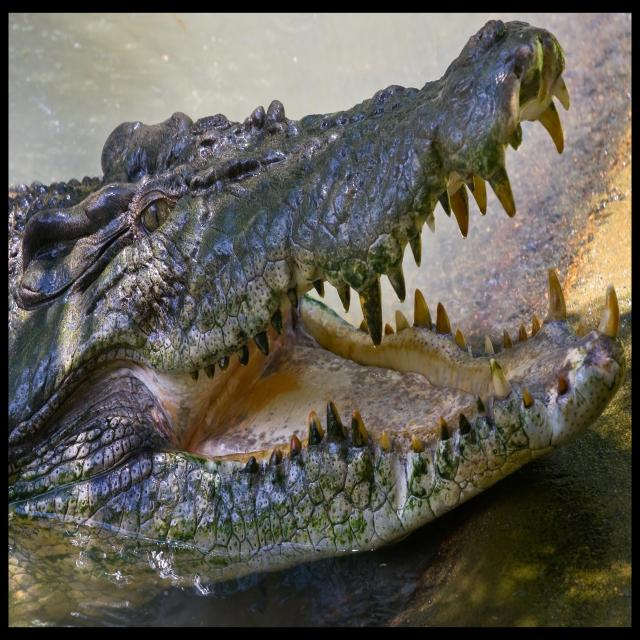crocodile: (0, 3, 640, 608)
